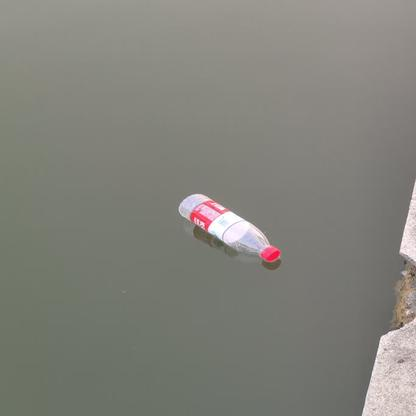plastic bottle: (178, 193, 282, 263)
